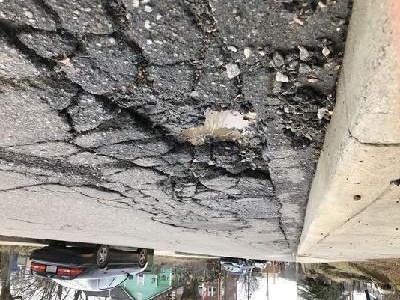pothole: (93, 85, 272, 182)
